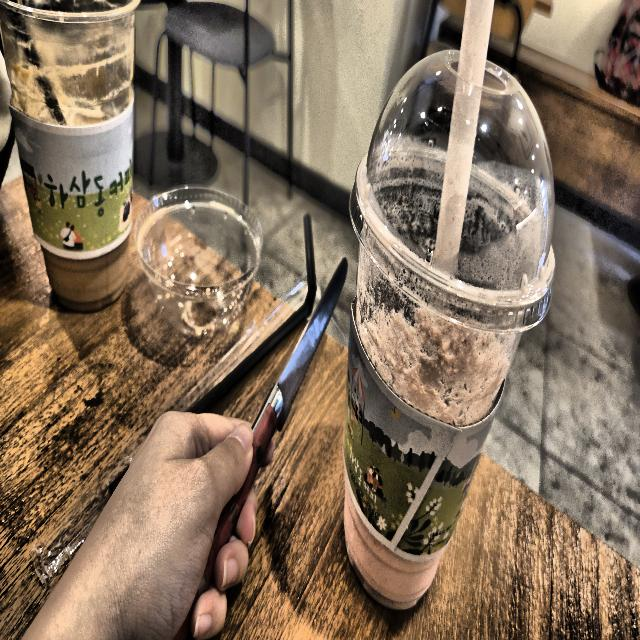knife: (189, 254, 348, 591)
